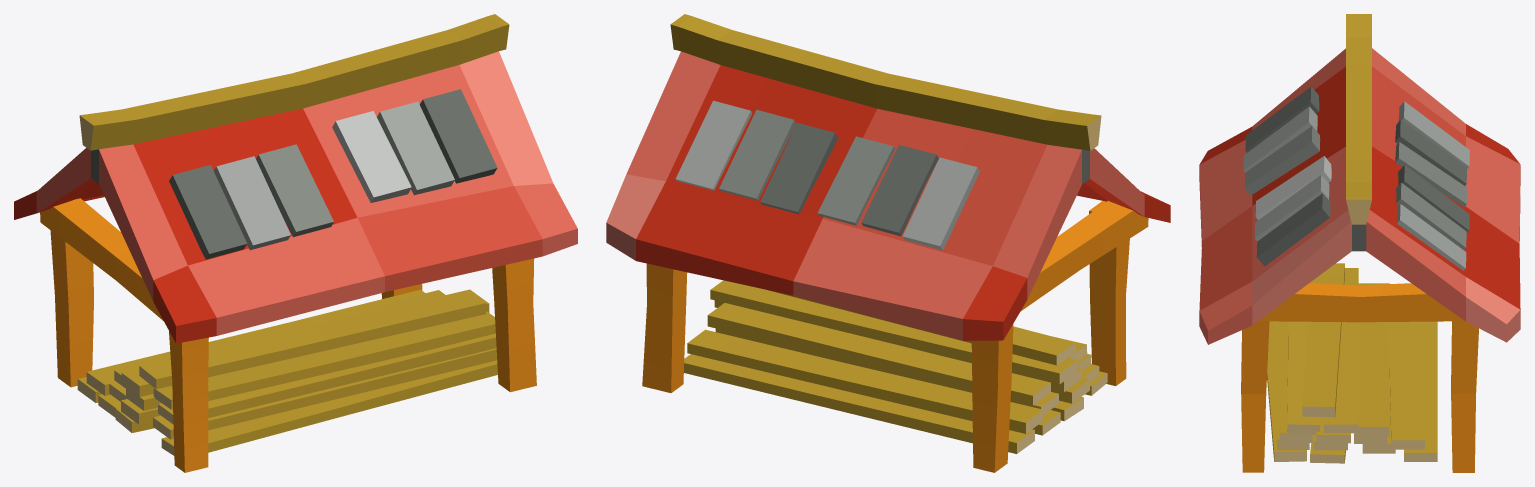
File: logstore 1.fbx
The picture shows the model from 3 angles, left to right: view 1: azimuth 30°, elevation 25°; view 2: azimuth 150°, elevation 25°; view 3: azimuth 270°, elevation 25°; orthographic projection. The views are drawn at different scales.
Parts seen in each view (by area): view 1: log_storage1; view 2: log_storage1; view 3: log_storage1.
Part boxes in pixels (x1,y1,x2,y2): log_storage1: (14,14,577,472); log_storage1: (606,14,1170,472); log_storage1: (1199,14,1520,472).
Size of the model in its own units: 26.48 by 19.06 by 19.38.
